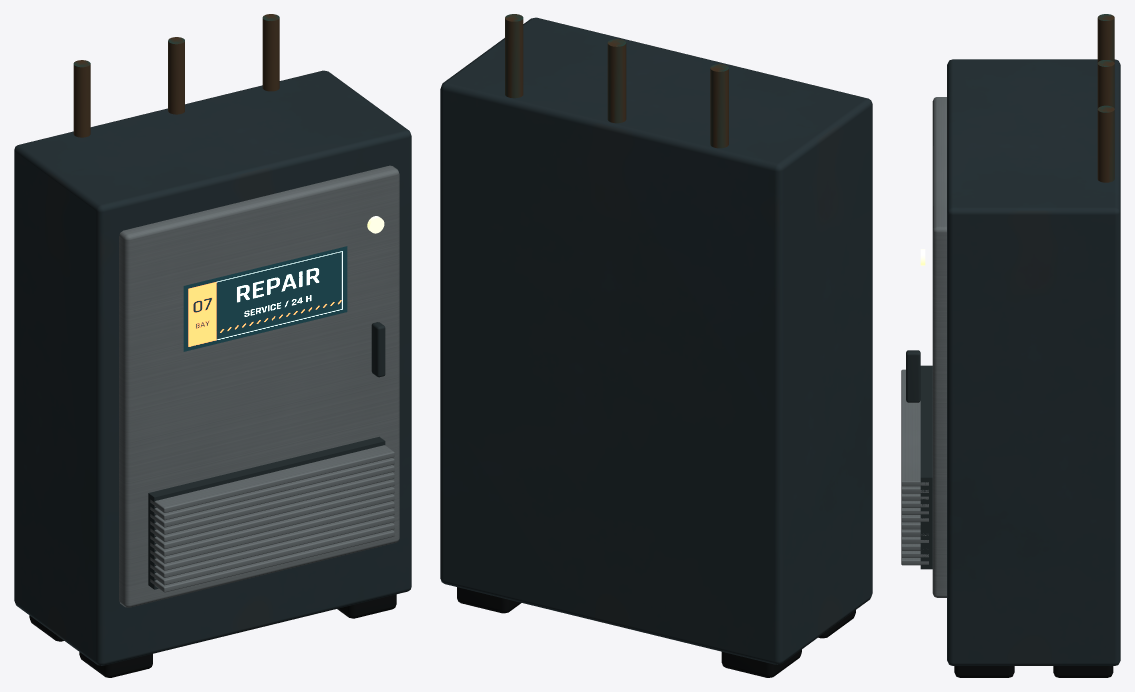
Rendered from NC_PowerCabinet_LOD0.fbx.
The picture shows the model from 3 angles, left to right: view 1: azimuth 30°, elevation 25°; view 2: azimuth 150°, elevation 25°; view 3: azimuth 270°, elevation 25°; orthographic projection. The views are drawn at different scales.
Parts seen in each view (by area): view 1: NC_PowerCabinet_LOD0; view 2: NC_PowerCabinet_LOD0; view 3: NC_PowerCabinet_LOD0.
Part boxes in pixels (left/top/right/bottom): NC_PowerCabinet_LOD0: left=14, top=14, right=411, bottom=677; NC_PowerCabinet_LOD0: left=440, top=14, right=872, bottom=677; NC_PowerCabinet_LOD0: left=901, top=14, right=1120, bottom=677.
Size of the model in its own units: 150 by 250 by 91.
